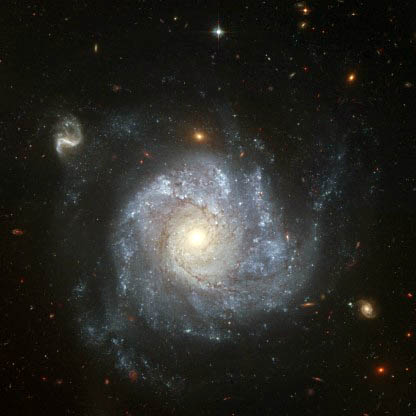NGC 1309: (42, 103, 391, 379)
